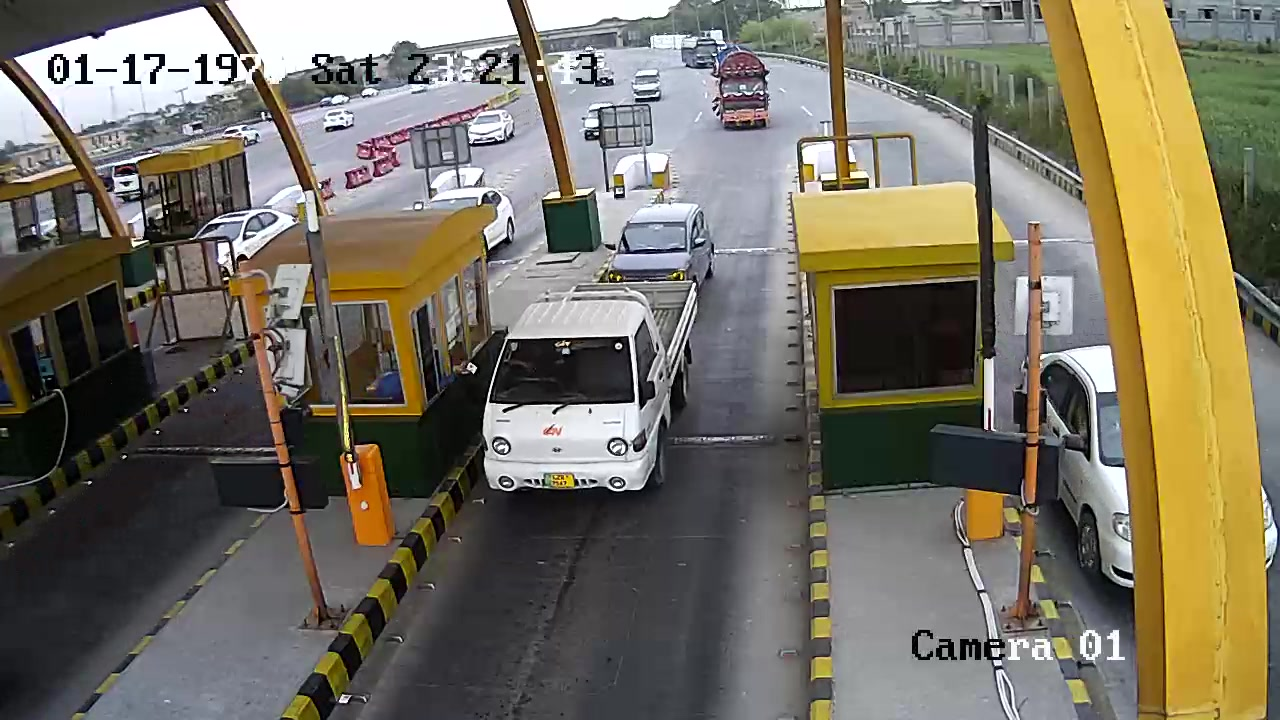F2: (481, 274, 718, 505)
